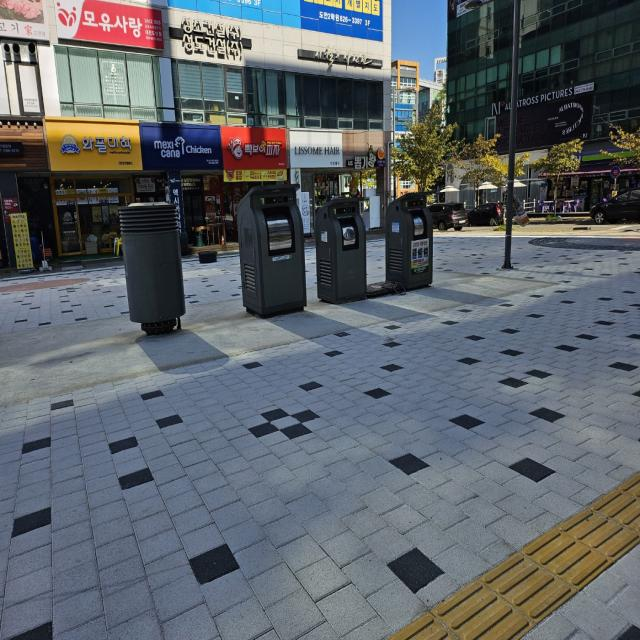CleanNet: (233, 179, 307, 318), (316, 193, 370, 302), (389, 185, 438, 296)
